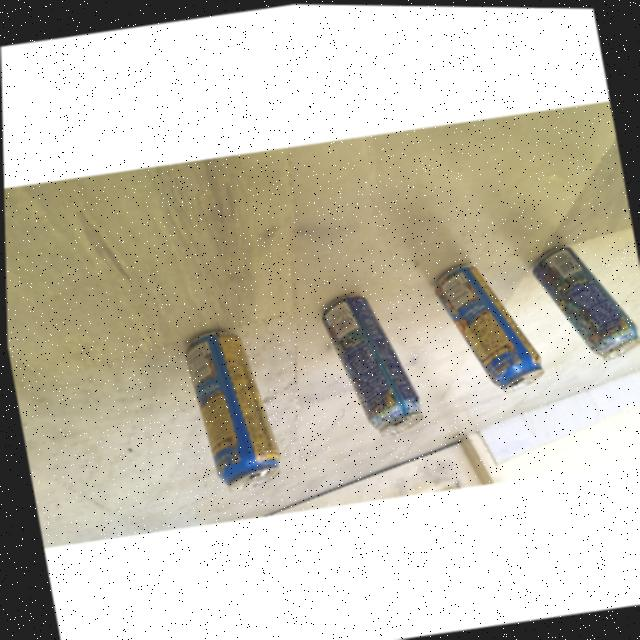Monster Aussie Lemonade: (314, 285, 425, 445), (526, 233, 640, 368)
Monster Mango Loco: (176, 319, 286, 498), (427, 253, 545, 402)
